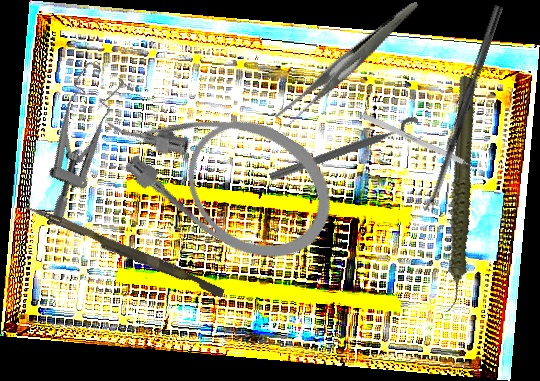Cannula: (86, 54, 354, 283)
Dressing Forceps: (255, 1, 442, 130)
Fixation Ring: (267, 114, 425, 194)
Handpiece: (391, 74, 524, 315)
Hook Surgical: (361, 112, 487, 176)
Pusher: (21, 203, 227, 298)
Speculum: (6, 58, 146, 223)
Surgical Spoon: (422, 4, 504, 214)
